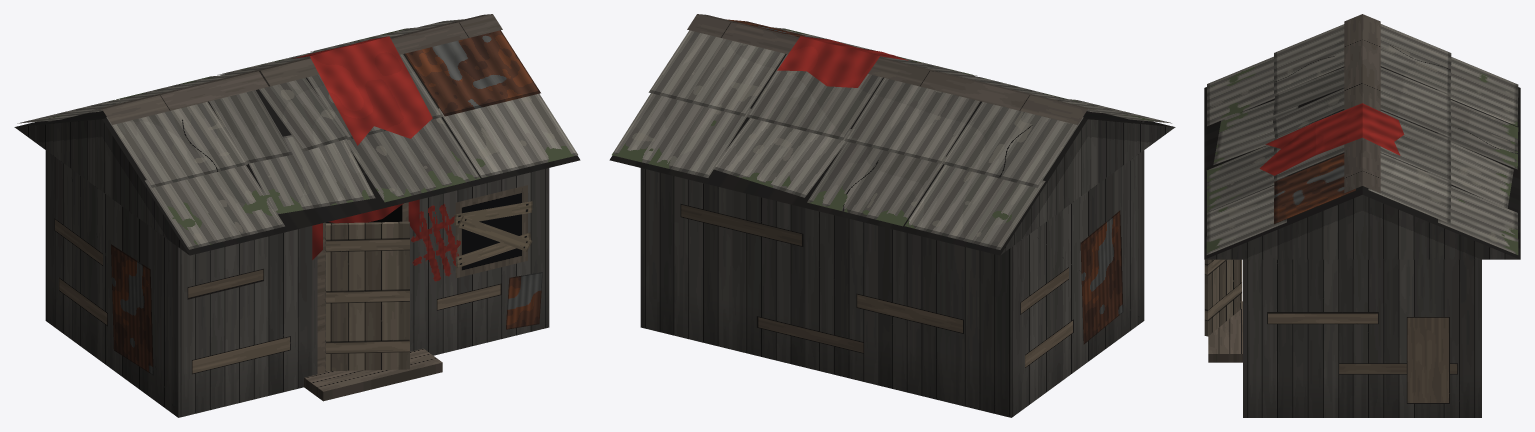
The model's file is SM_BanditShed.fbx.
3 renders of one model, left to right at view 1: azimuth 30°, elevation 25°; view 2: azimuth 150°, elevation 25°; view 3: azimuth 270°, elevation 25°, orthographic. The views are drawn at different scales.
Parts seen in each view (by area): view 1: SM_BanditShed; view 2: SM_BanditShed; view 3: SM_BanditShed.
Part boxes in pixels (x1,y1,x2,y2): SM_BanditShed: [14, 14, 580, 417]; SM_BanditShed: [609, 14, 1175, 417]; SM_BanditShed: [1204, 14, 1520, 417].
Bounding box in the file's own units: 510 × 331 × 397.
1 material, 1 textured.
